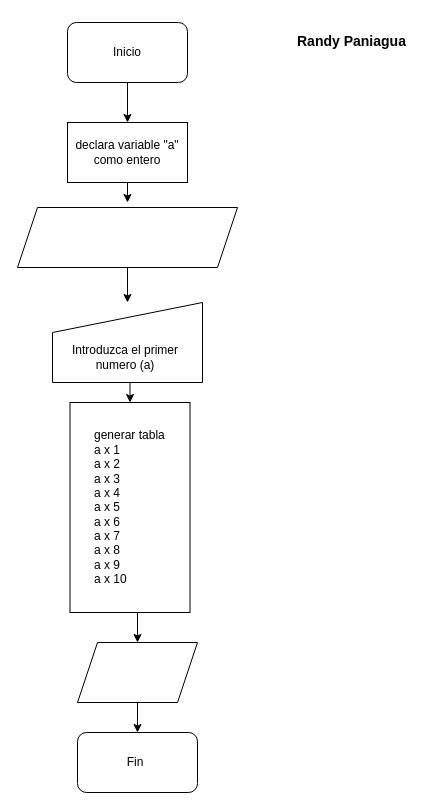
Image size: 429x810. Some labels were removed from this diagram. Each missing label, with the centre of its shape:
Mostrar en pantalla "Ingrese un numero para generar su tabla": (127,237)
Mostrar tabla de a: (137,672)
